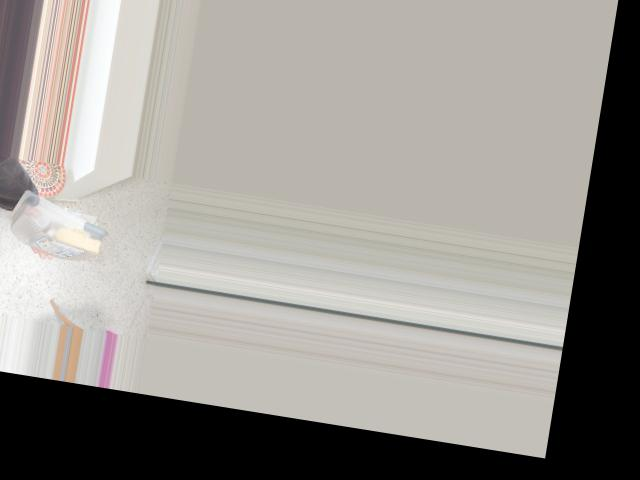cheese: (6, 181, 116, 265)
